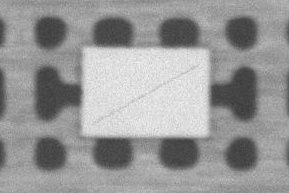DIE_CRACK: (138, 43, 289, 83)
